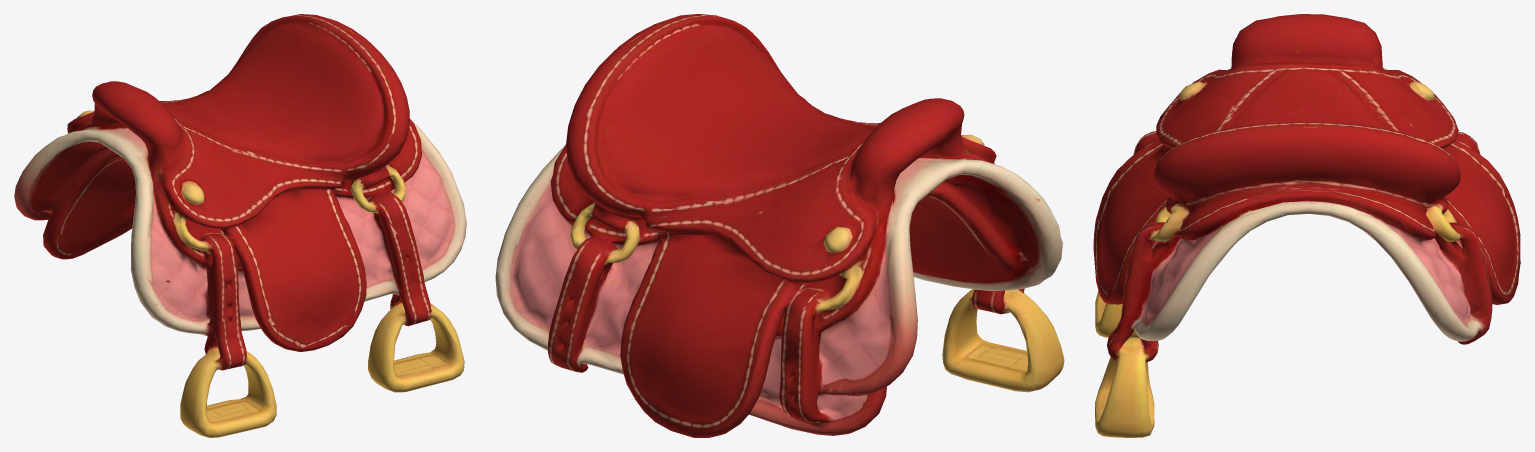
The picture shows the model from 3 angles, left to right: view 1: azimuth 30°, elevation 25°; view 2: azimuth 150°, elevation 25°; view 3: azimuth 270°, elevation 25°; orthographic projection. The views are drawn at different scales.
Parts seen in each view (by area): view 1: saddle-red; view 2: saddle-red; view 3: saddle-red.
Boxes of the visible parts, x1,y1,x2,y2 form: saddle-red: [14, 14, 466, 437]; saddle-red: [495, 14, 1064, 437]; saddle-red: [1093, 14, 1520, 437].
Size of the model in its own units: 0.2811 by 0.2293 by 0.2905.
Materials: 1 (1 with a texture image).
